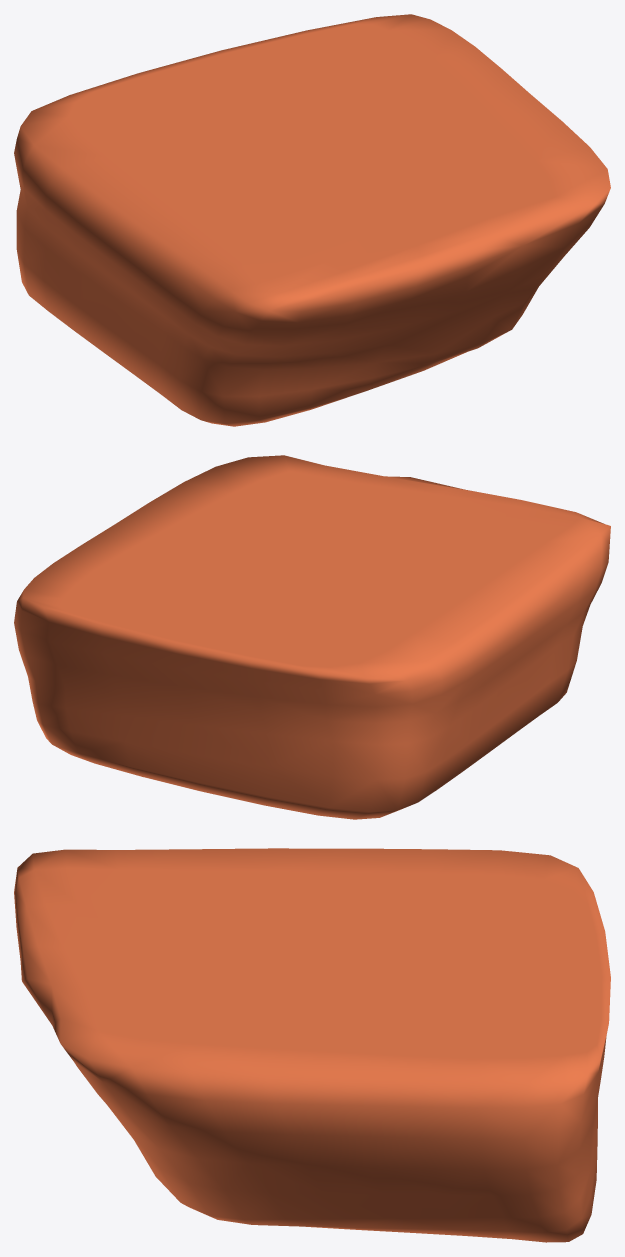
File: AngularStone.fbx
3 views of the same model, one above another, from view 1: azimuth 30°, elevation 25°; view 2: azimuth 150°, elevation 25°; view 3: azimuth 270°, elevation 25° (orthographic). The views are drawn at different scales.
Visible parts, largest first — view 1: Angular.001; view 2: Angular.001; view 3: Angular.001.
Boxes of the visible parts, x1,y1,x2,y2 form: Angular.001: [14, 14, 610, 426]; Angular.001: [14, 455, 610, 819]; Angular.001: [14, 848, 610, 1242].
Size of the model in its own units: 4.95 by 1.68 by 4.9.
